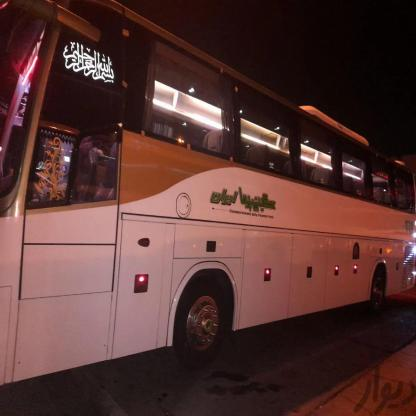Bus: (0, 0, 416, 367)
